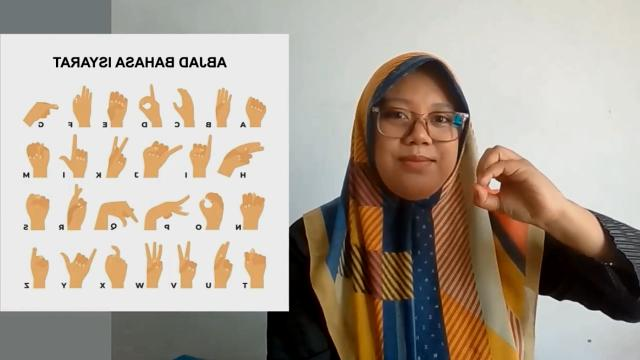O: (467, 141, 563, 233)
